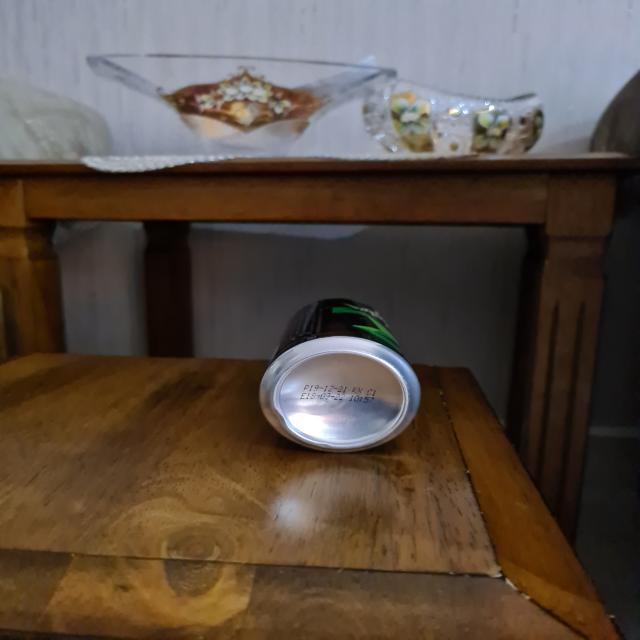can: (270, 302, 416, 447)
